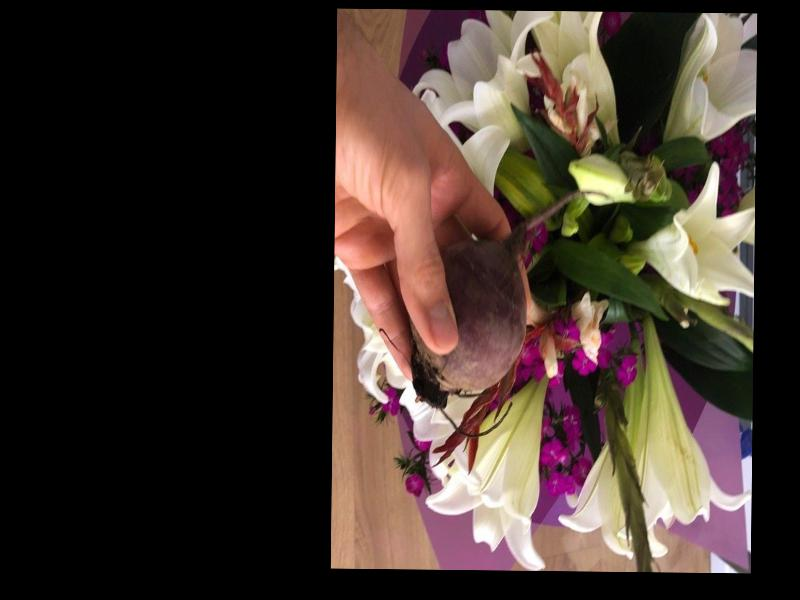Beet: (409, 187, 611, 439)
